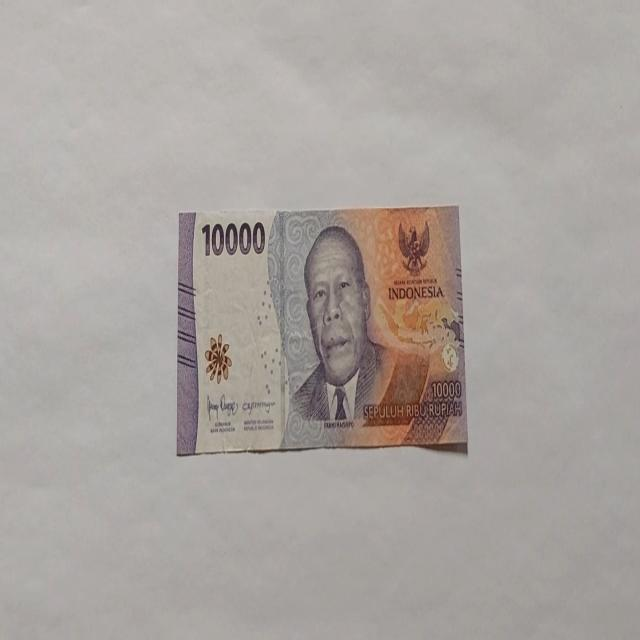sepuluh ribu rupiah: (176, 204, 468, 457)
